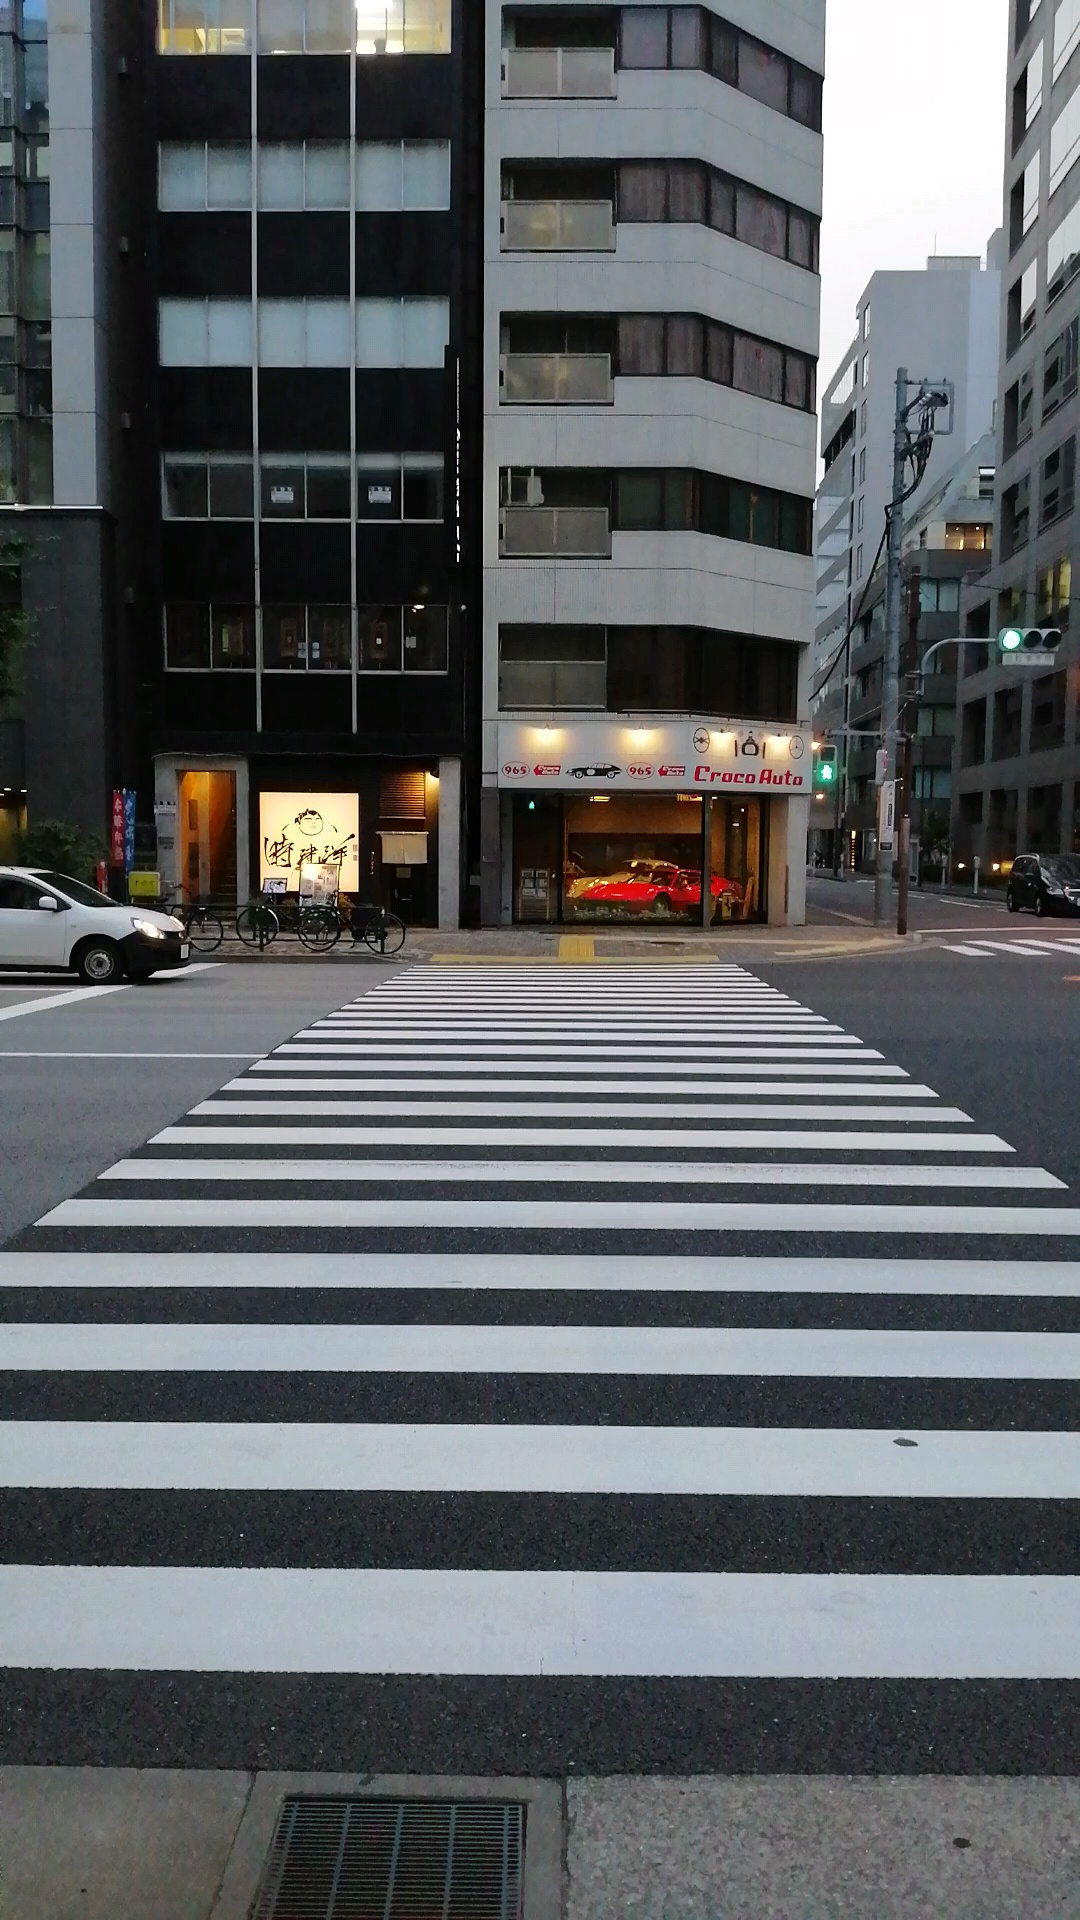green: (815, 742, 839, 785)
